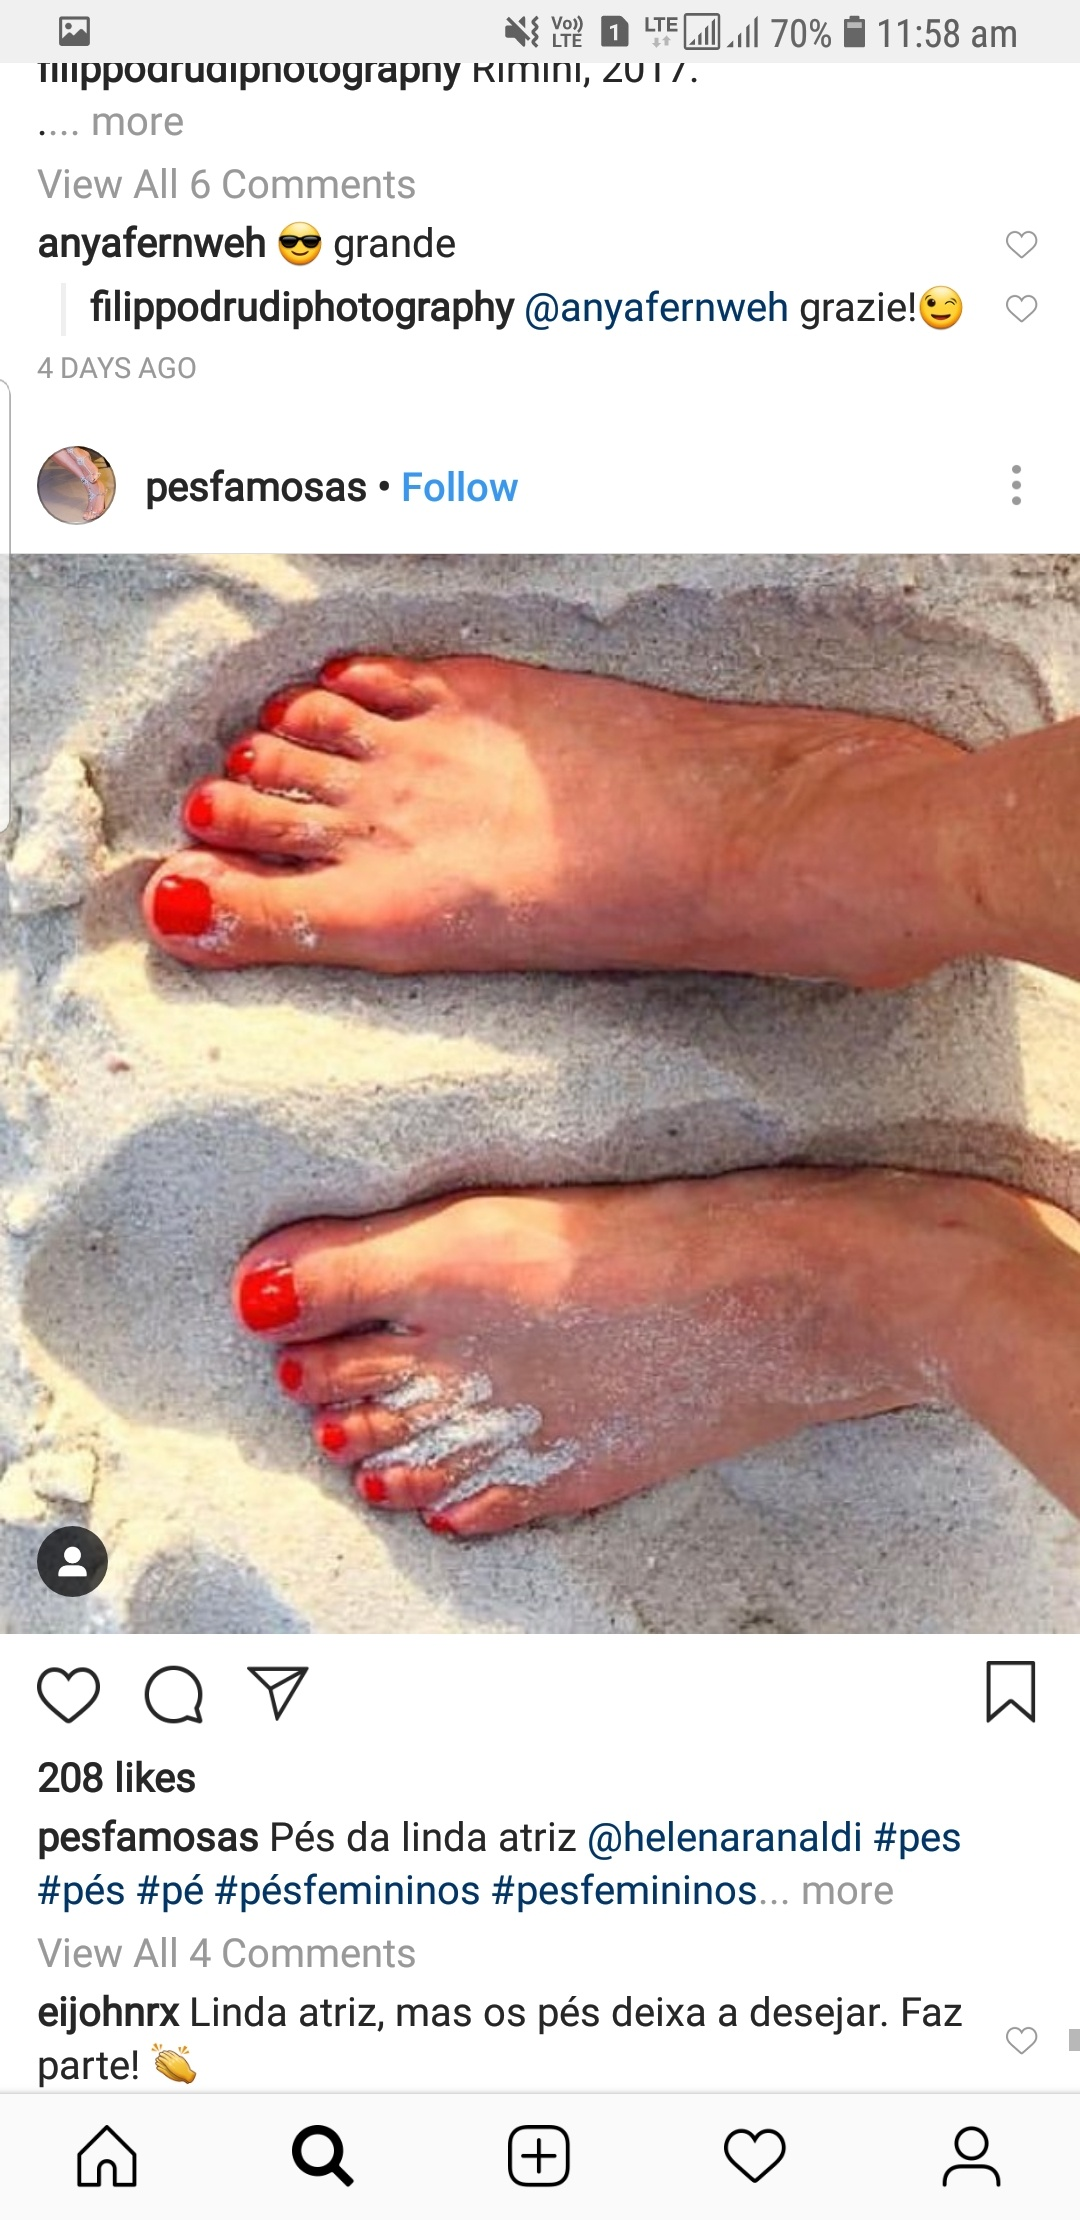feet: (16, 566, 1013, 1009), (167, 1083, 1032, 1563)
